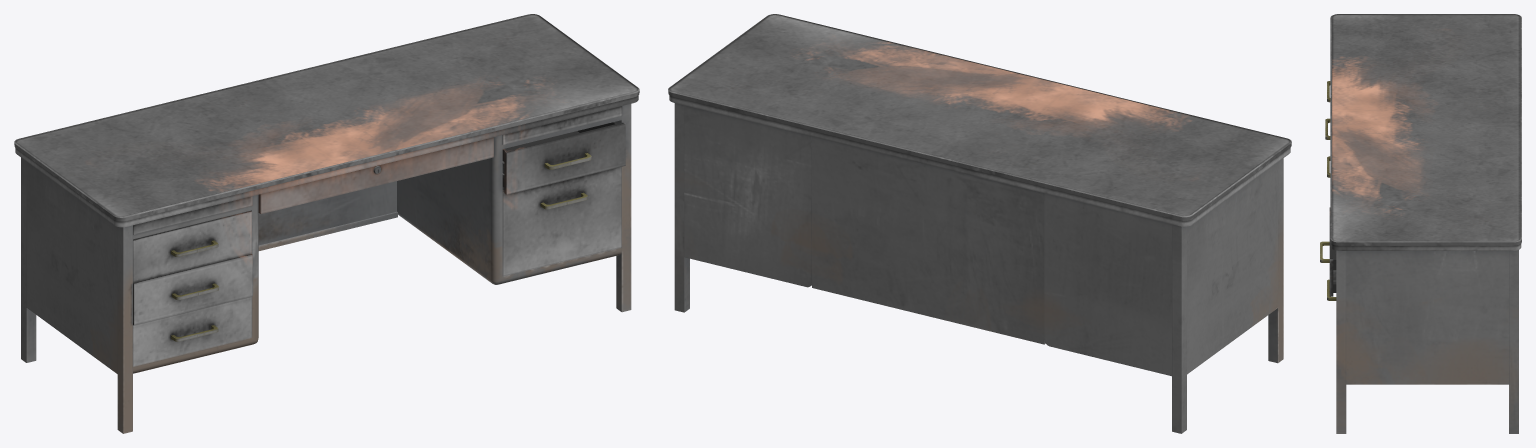
Rendered from labdesk.glb.
3 views of the same model, side by side, from view 1: azimuth 30°, elevation 25°; view 2: azimuth 150°, elevation 25°; view 3: azimuth 270°, elevation 25° (orthographic). The views are drawn at different scales.
Parts seen in each view (by area): view 1: Lab; view 2: Lab; view 3: Lab.
Part boxes in pixels (<box>): Lab: <box>14,14,639,433</box>; Lab: <box>668,14,1291,433</box>; Lab: <box>1320,14,1521,433</box>.
Size of the model in its own units: 1.97 by 0.7889 by 0.7374.
1 material, 1 textured.
